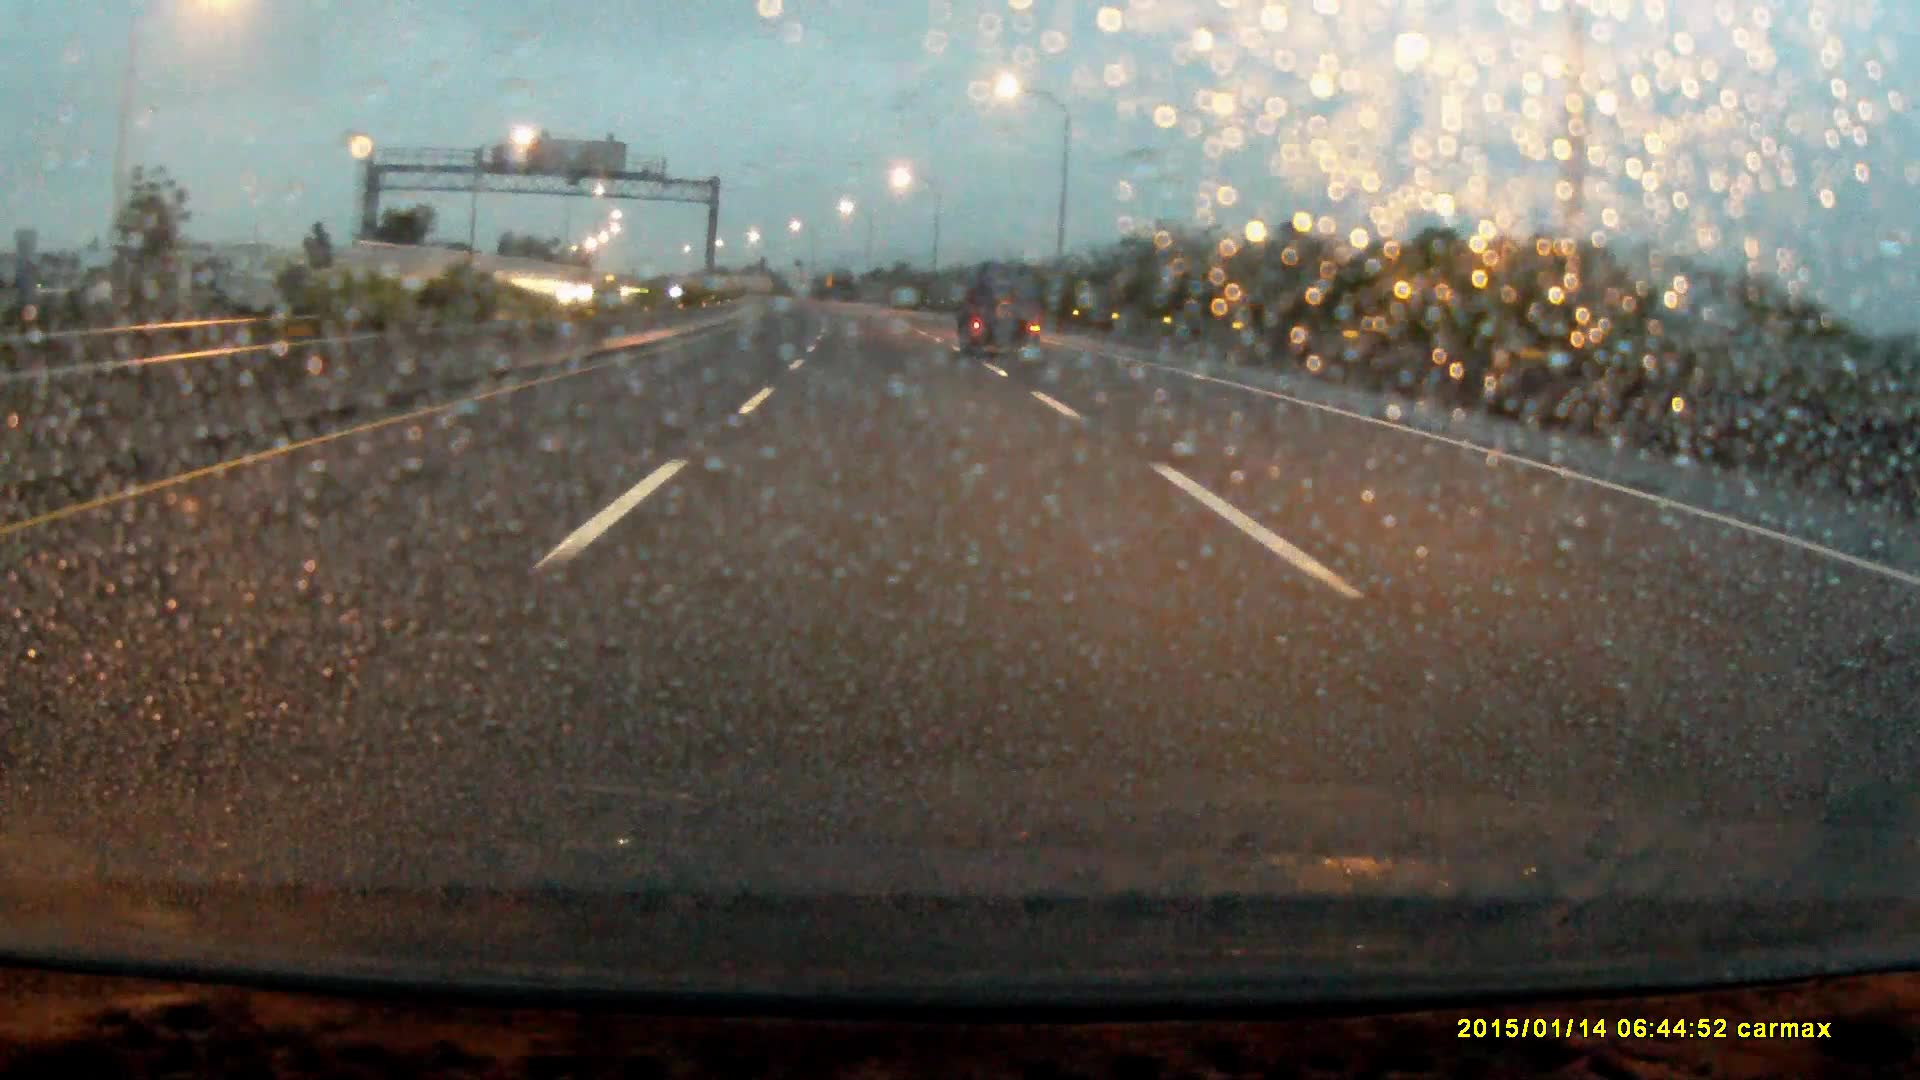vehicle: (960, 272, 1047, 361), (558, 272, 603, 307)
